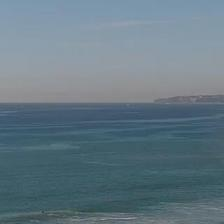surfer: (42, 211, 45, 213)
